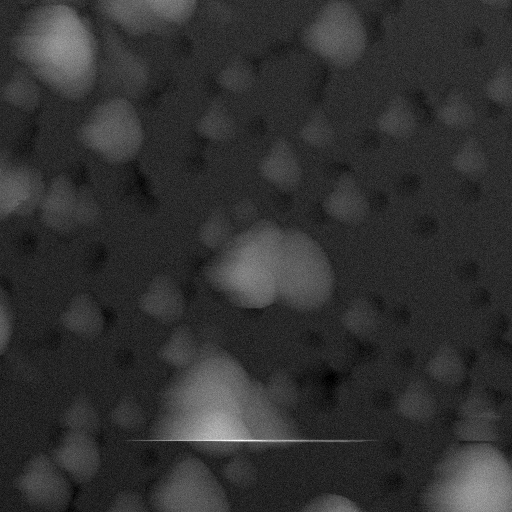Hole: (290, 327, 355, 412), (450, 248, 495, 309), (117, 167, 170, 214), (172, 136, 214, 177), (9, 224, 50, 261), (18, 319, 62, 352), (475, 325, 511, 364), (404, 204, 442, 240), (77, 240, 111, 277), (294, 66, 332, 98), (384, 293, 413, 330), (148, 64, 183, 94), (452, 19, 485, 49), (391, 165, 420, 199), (377, 467, 410, 496), (382, 431, 409, 464), (263, 32, 288, 66), (357, 119, 381, 150), (178, 250, 207, 273), (372, 0, 413, 16), (368, 384, 393, 410), (170, 35, 197, 59), (141, 85, 163, 114), (392, 343, 414, 370), (269, 189, 295, 211), (458, 181, 483, 202), (370, 184, 389, 211), (110, 350, 134, 371), (502, 120, 511, 170), (247, 109, 265, 131), (200, 71, 218, 93), (103, 302, 120, 325), (239, 310, 261, 325), (498, 379, 511, 401), (506, 416, 511, 436), (510, 223, 511, 244)
Particle: (216, 223, 330, 313), (13, 5, 104, 101), (420, 442, 511, 511), (291, 0, 373, 69), (151, 456, 240, 511), (73, 95, 141, 165), (39, 173, 102, 236), (9, 450, 74, 511), (96, 0, 196, 39), (313, 165, 370, 227), (250, 130, 303, 192), (52, 285, 108, 343), (133, 270, 189, 325), (48, 427, 102, 481), (54, 381, 106, 433), (433, 82, 478, 139), (415, 343, 471, 386), (372, 88, 417, 141), (448, 132, 492, 183), (0, 61, 42, 113), (268, 492, 382, 511), (293, 103, 338, 149), (395, 374, 434, 425), (342, 294, 382, 341), (154, 325, 199, 366), (188, 201, 230, 244), (198, 97, 237, 142), (480, 58, 511, 113), (112, 387, 147, 434), (218, 451, 262, 488), (213, 53, 254, 92), (0, 284, 16, 380), (97, 488, 146, 511), (230, 185, 257, 225), (470, 0, 511, 15), (0, 0, 37, 11), (32, 0, 87, 6), (510, 276, 511, 316)
Smear: (140, 351, 299, 453), (450, 392, 503, 440)
